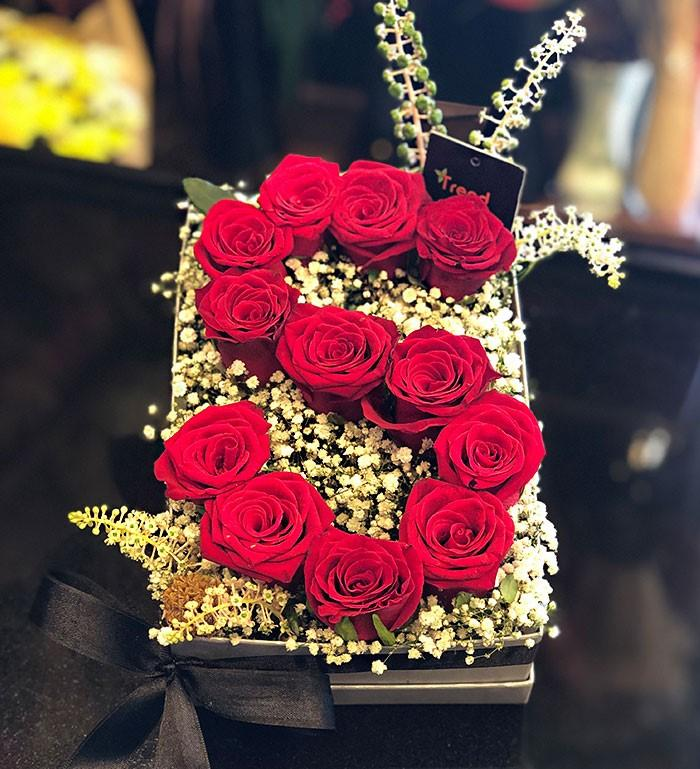Rose: (196, 465, 331, 591), (397, 473, 527, 602), (246, 124, 346, 269), (293, 524, 432, 624), (432, 387, 547, 504), (276, 294, 398, 394), (377, 327, 493, 426), (154, 404, 280, 495), (424, 189, 514, 307), (332, 154, 425, 267), (177, 197, 301, 281), (193, 264, 299, 350)
